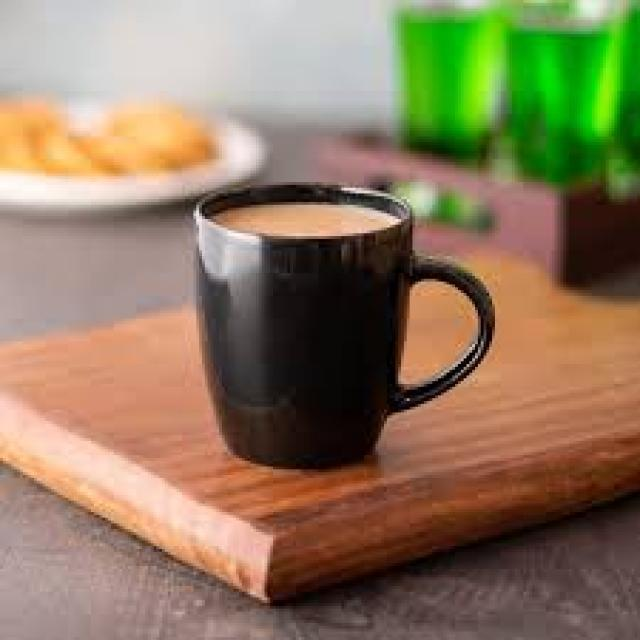taza: (182, 167, 510, 484)
